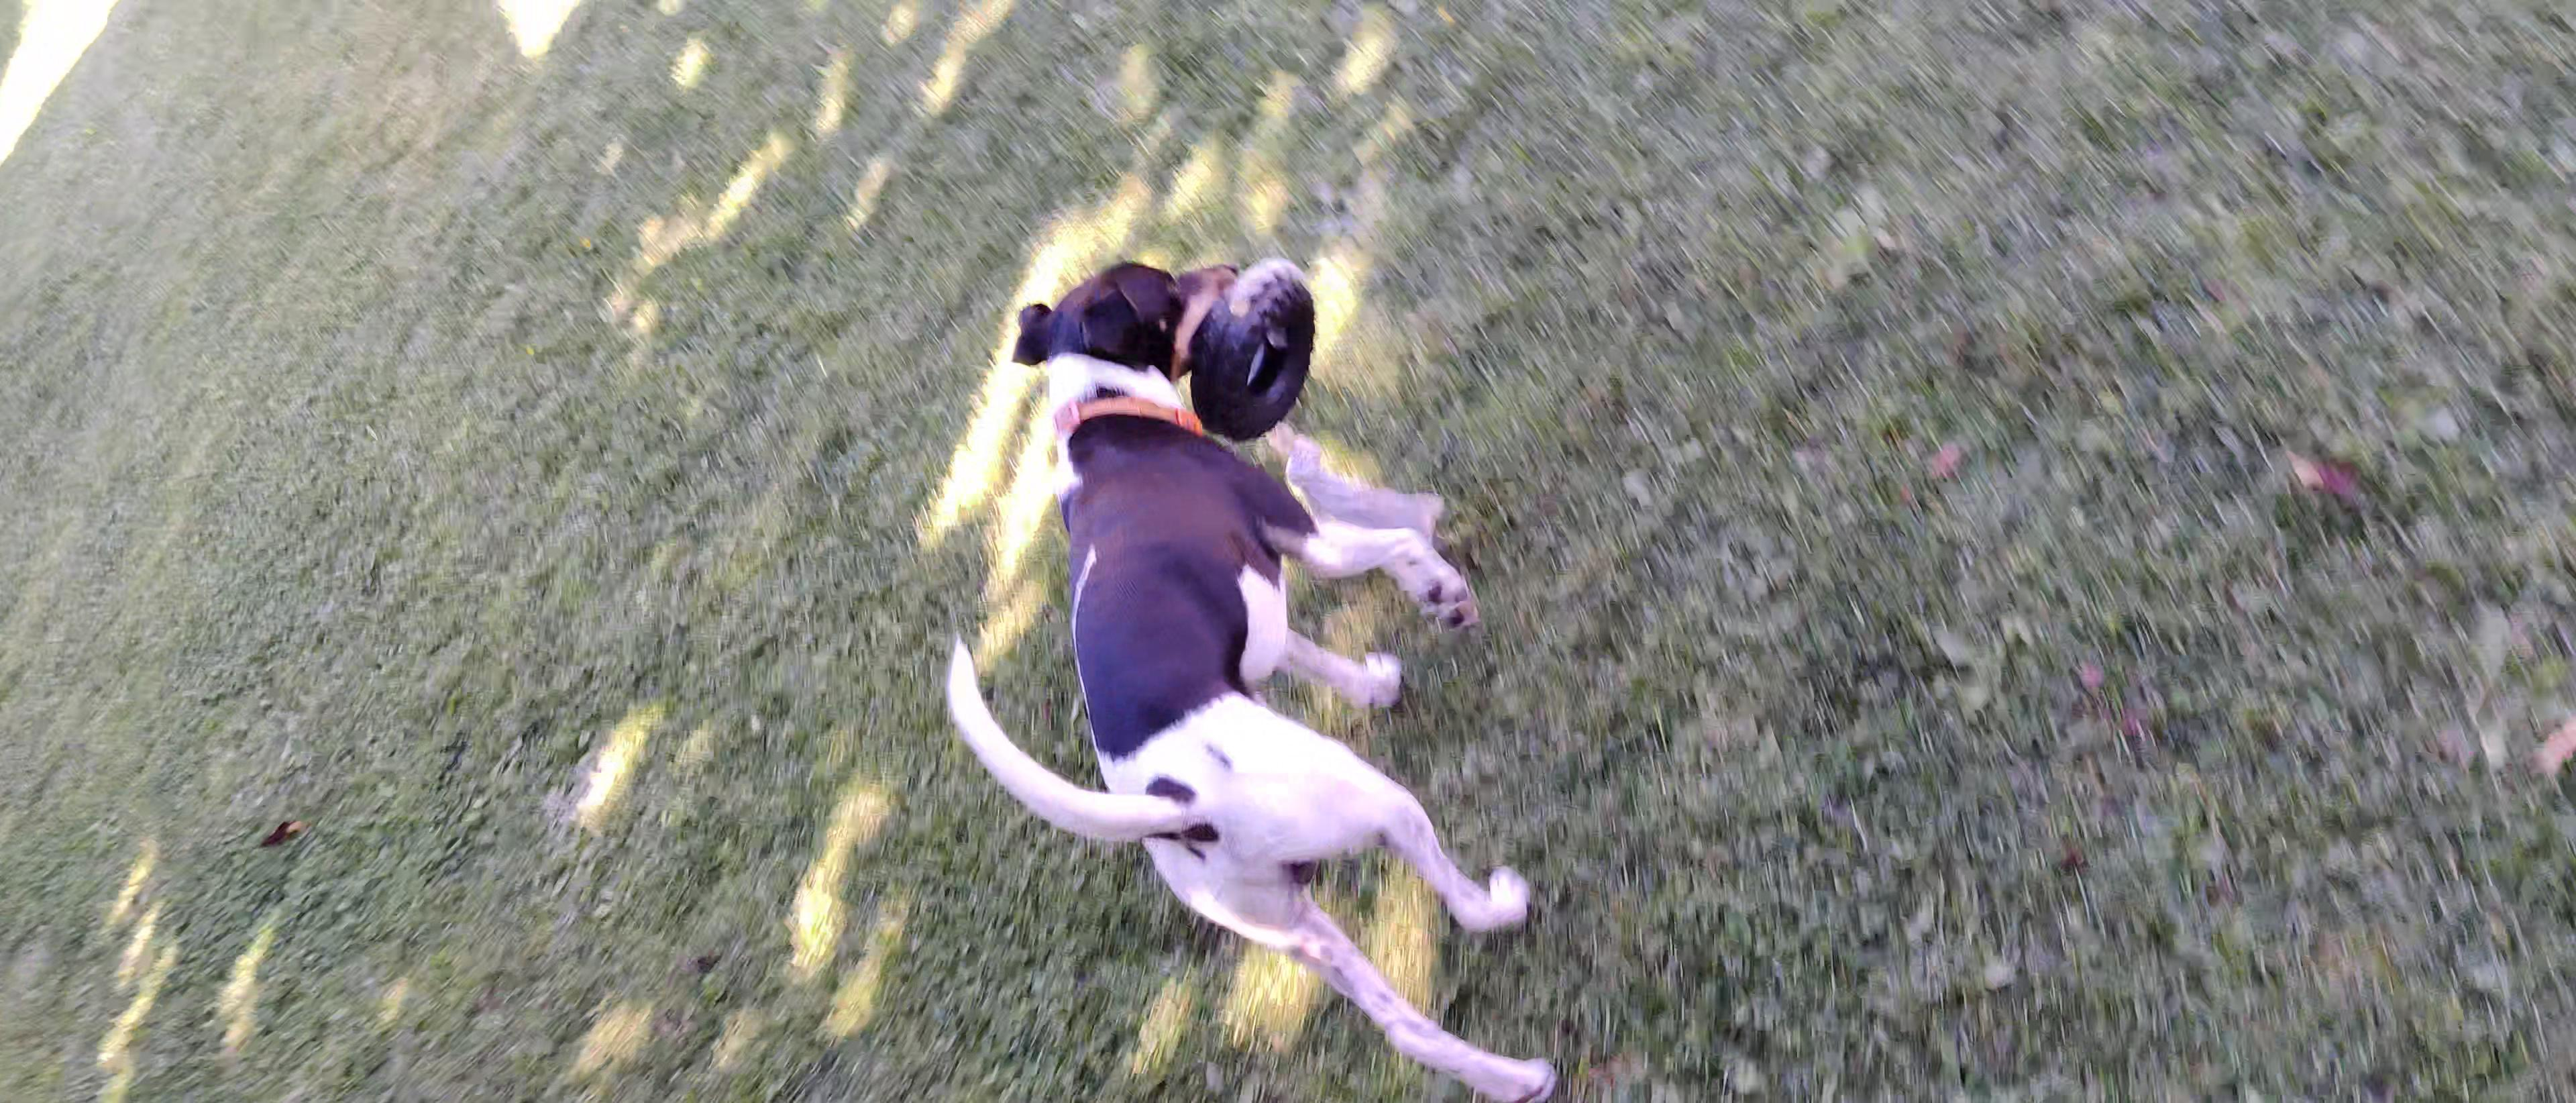Dog: (923, 215, 1571, 1103)
